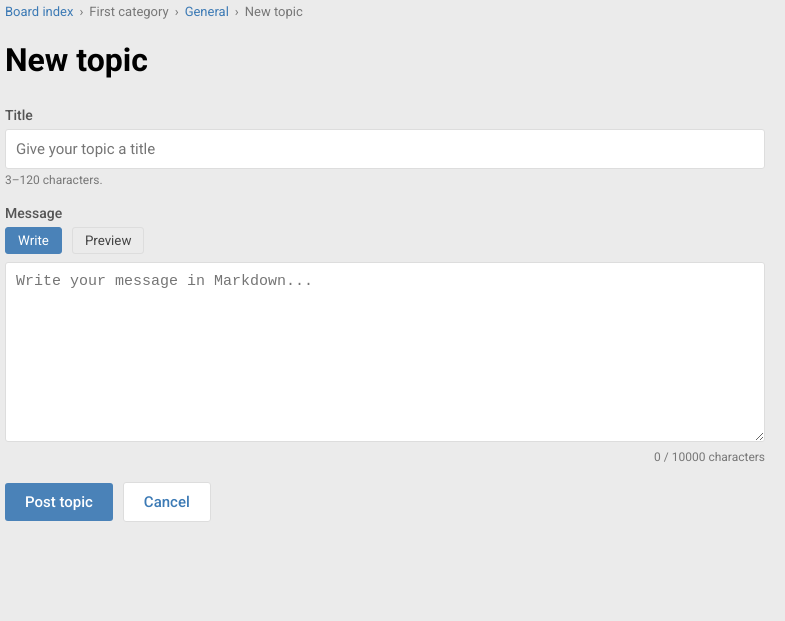
Test: shows server errors and keeps the typed text
This screenshot has width=785, height=621.
Type "My topic" into the field labelled "Title" at (385, 149), box [5,129,765,169]
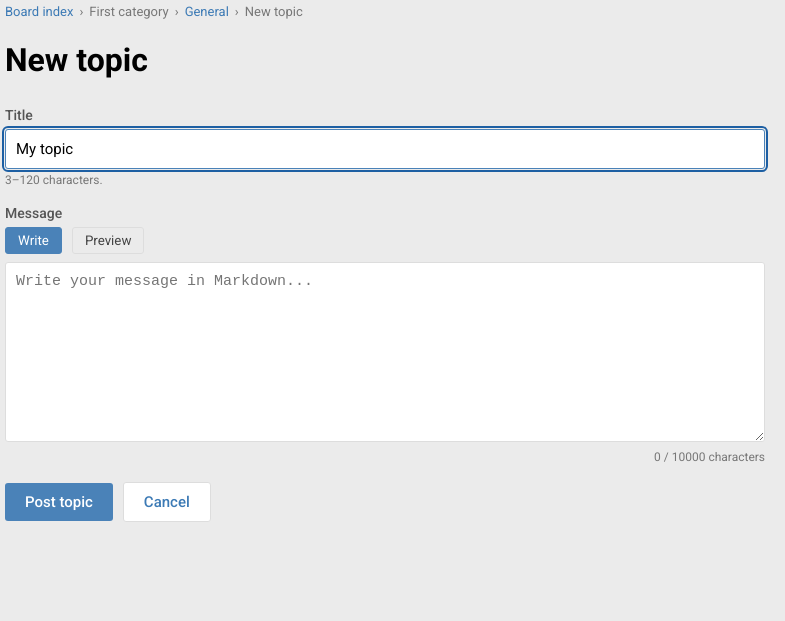
Type "Body text" into the text box labelled "Message" at (385, 352), box [5,262,765,442]
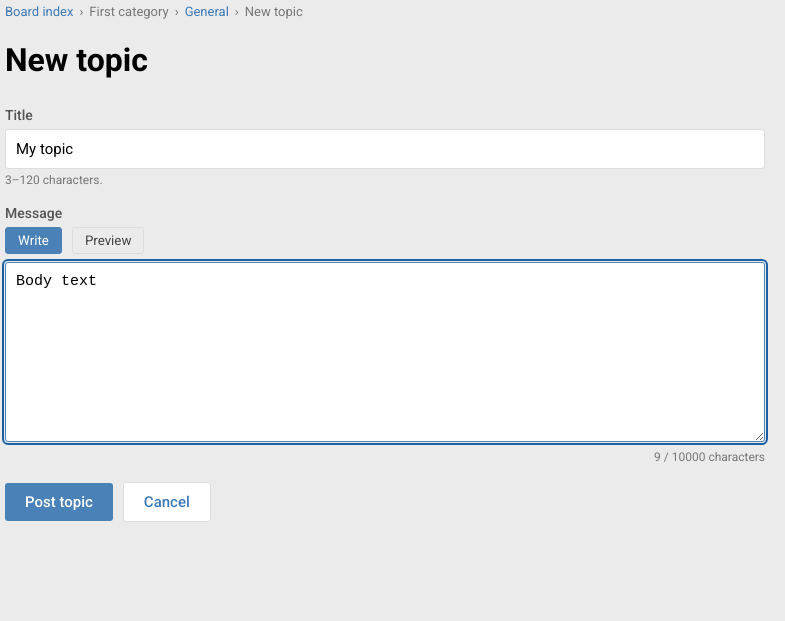
Click the button "Post topic" at (59, 502), box [5,483,113,521]
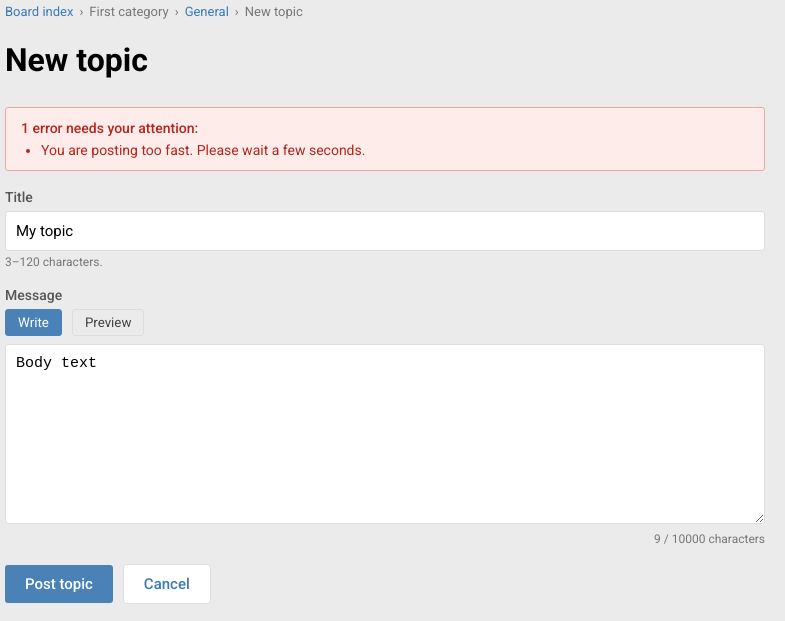
Expected: the button "Post topic" is enabled, [5,565,113,603]
Now the message shows "posting too fast", box [41,142,365,158]
